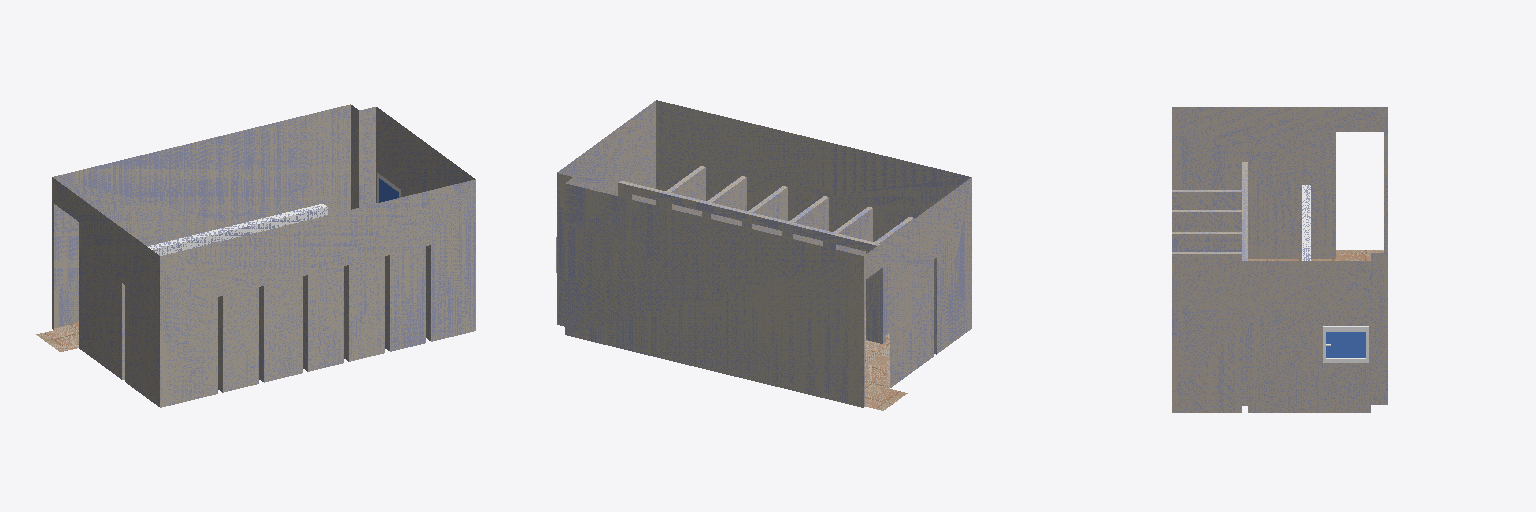
The picture shows the model from 3 angles: view 1: azimuth 30°, elevation 25°; view 2: azimuth 150°, elevation 25°; view 3: azimuth 270°, elevation 25°; orthographic projection.
Parts seen in each view (by area): view 1: Mesh4 COM003 Model; view 2: Mesh4 COM003 Model; view 3: Mesh4 COM003 Model, Mesh1 ventana3_1 COM003 Model.
Boxes of the visible parts, box(x1,y1,x2,y2) form: Mesh4 COM003 Model: box(36, 104, 475, 407); Mesh4 COM003 Model: box(557, 100, 971, 410); Mesh4 COM003 Model: box(1172, 107, 1387, 412); Mesh1 ventana3_1 COM003 Model: box(1323, 326, 1368, 362).
Size of the model in its own units: 8.33 by 3.6 by 4.65.
Materials: 6 (1 with a texture image).